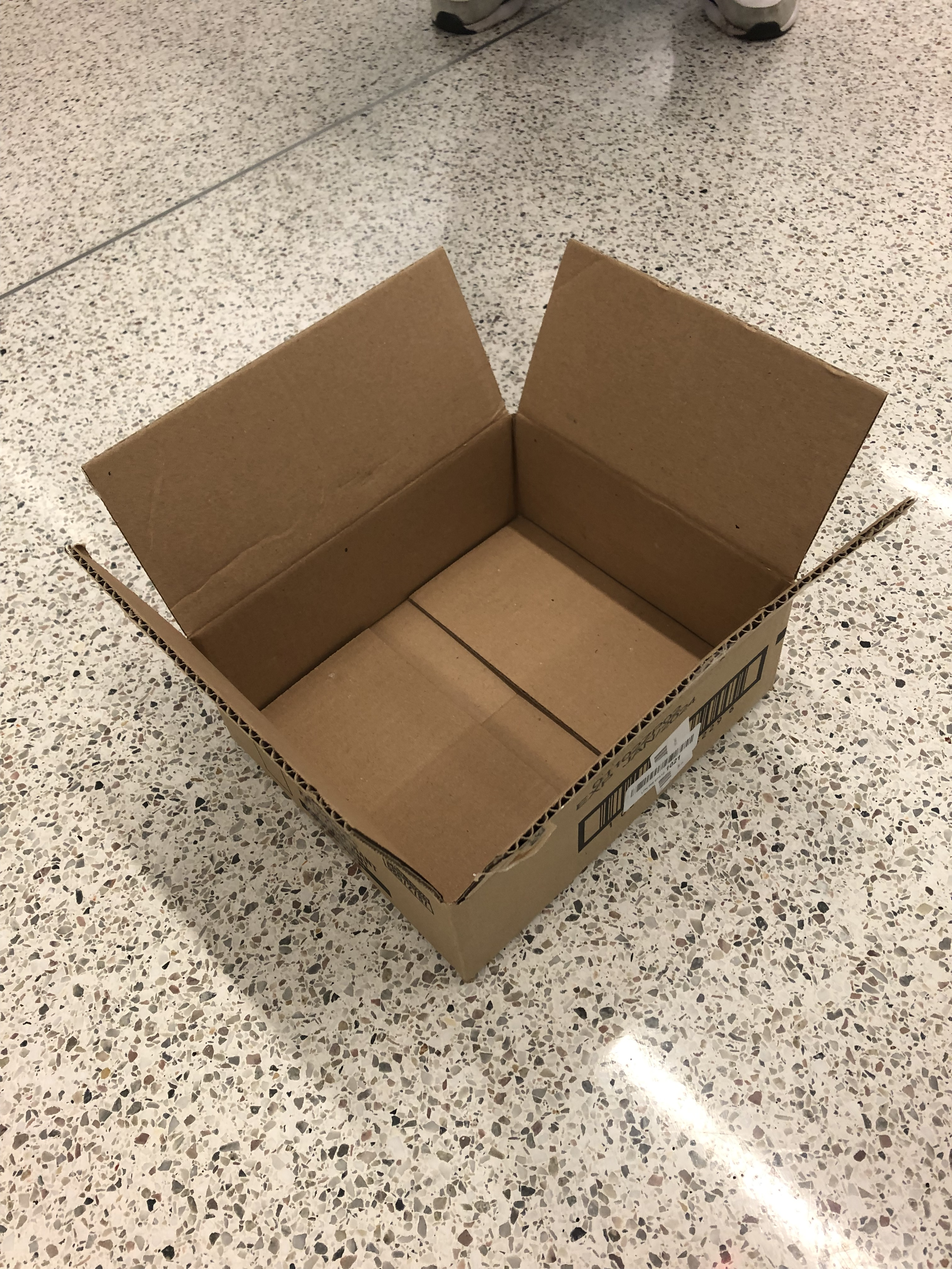box: (69, 239, 915, 986)
crushed: (70, 240, 920, 910)
